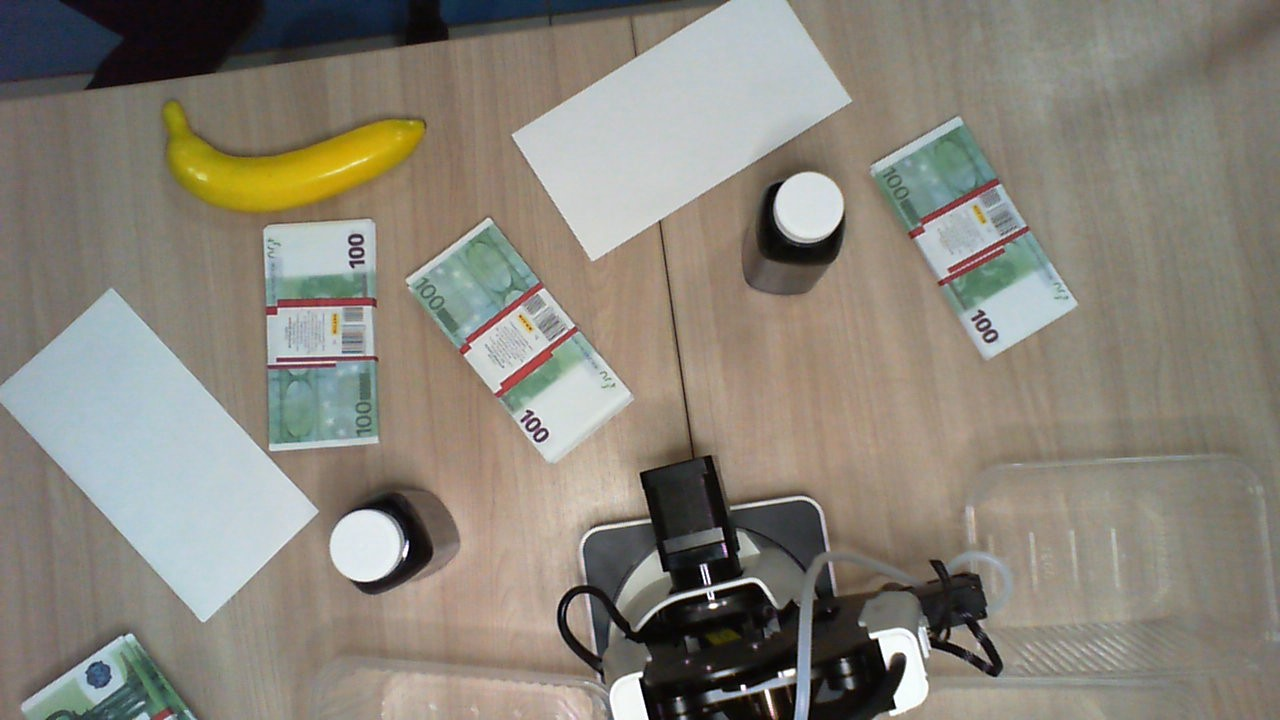banana: (152, 89, 433, 218)
bottle: (328, 485, 437, 593), (753, 170, 846, 280)
convert: (1, 289, 322, 626), (511, 1, 853, 265)
money: (407, 216, 633, 455), (874, 110, 1081, 358), (262, 219, 385, 452), (27, 640, 213, 720)
